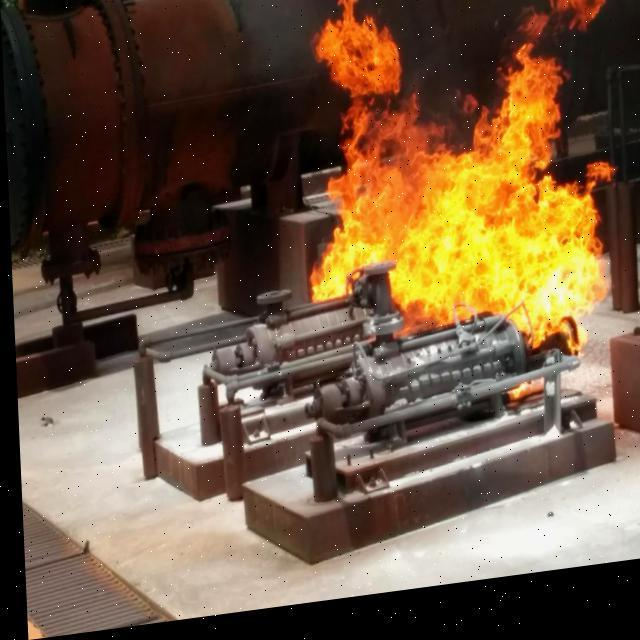Fire: (302, 0, 624, 400)
